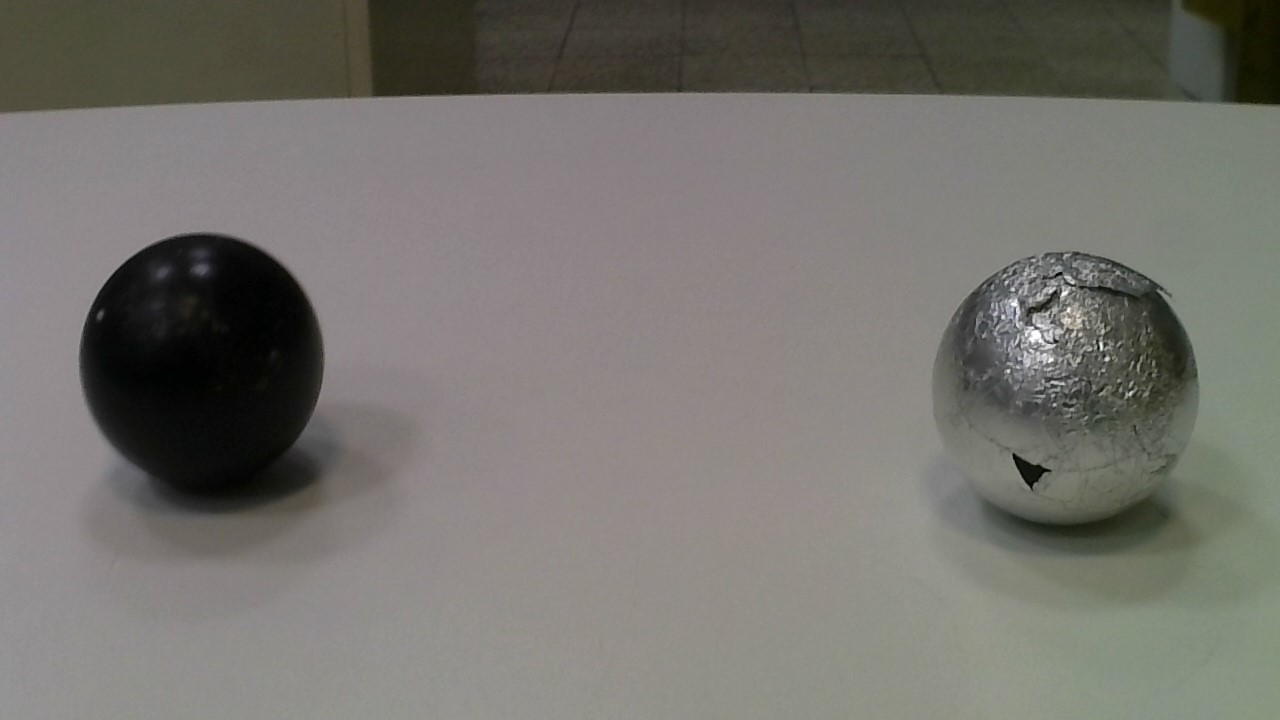black_ball: (69, 219, 332, 498)
silver_ball: (917, 244, 1209, 538)
